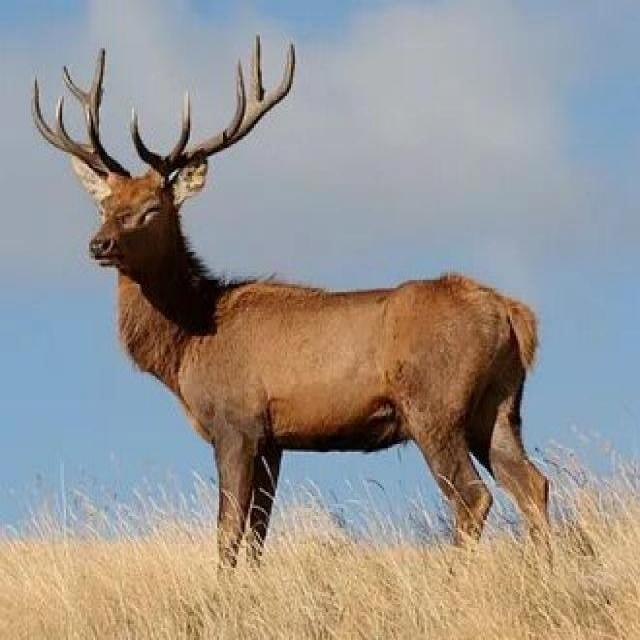deer: (56, 113, 597, 598)
